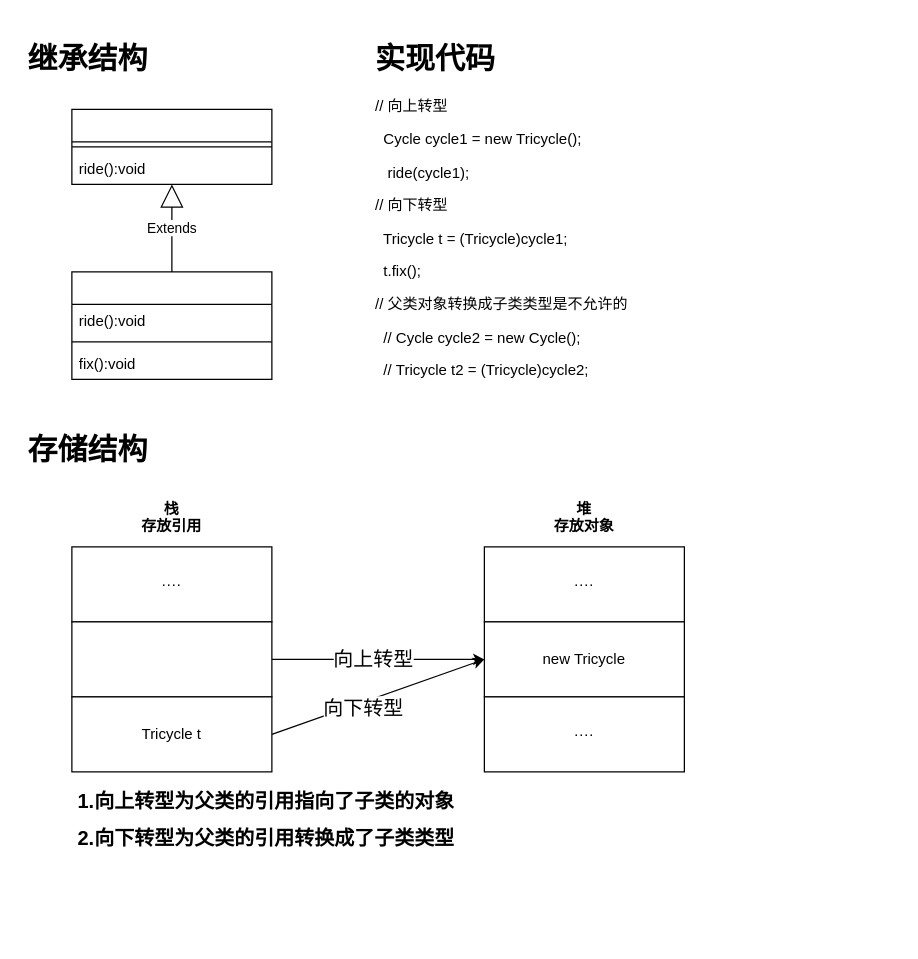
Image size: 918x959. Some labels were removed from this diagram. The shapes that lost their labels are listed below. From the top down, each one's box as (x1, y1, x2, y2) in pixels, then its label:
(71, 108, 272, 184): Cycle
(71, 271, 272, 379): Tricycle
(71, 621, 272, 697): Cycle cycle1
